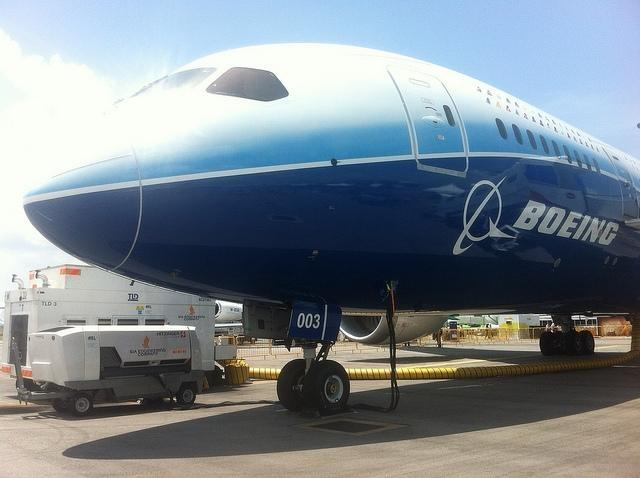bus: (540, 314, 598, 336)
truck: (12, 326, 207, 417)
